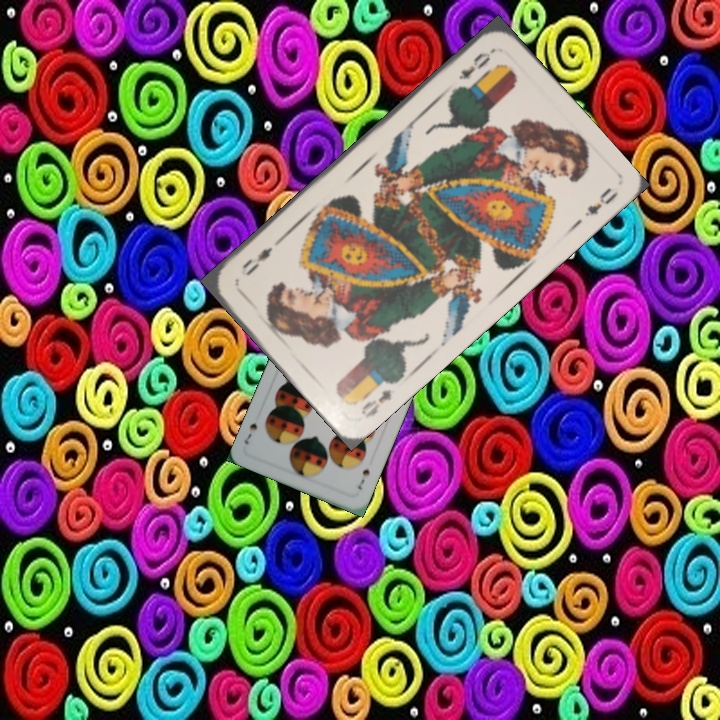EO: (454, 46, 496, 83), (357, 384, 394, 421)
S7: (353, 463, 373, 492)
